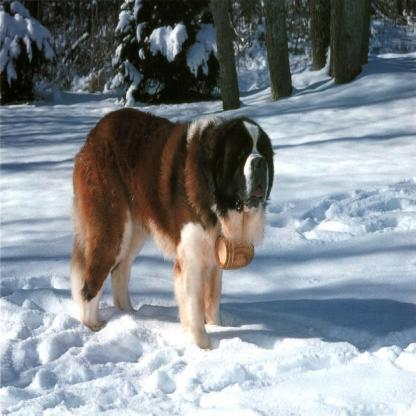Saint_Bernard: (68, 104, 275, 352)
